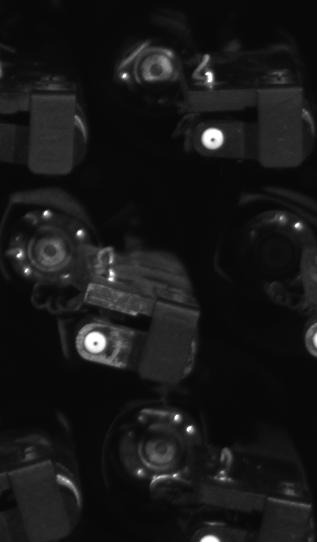fiber: (194, 119, 230, 156), (79, 328, 115, 360)
